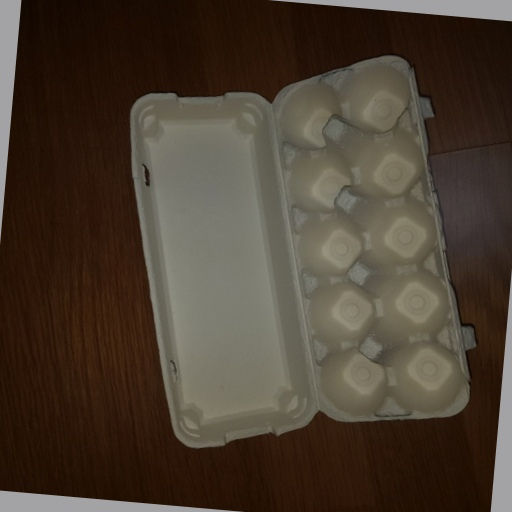Paper_0: (115, 53, 483, 453)
